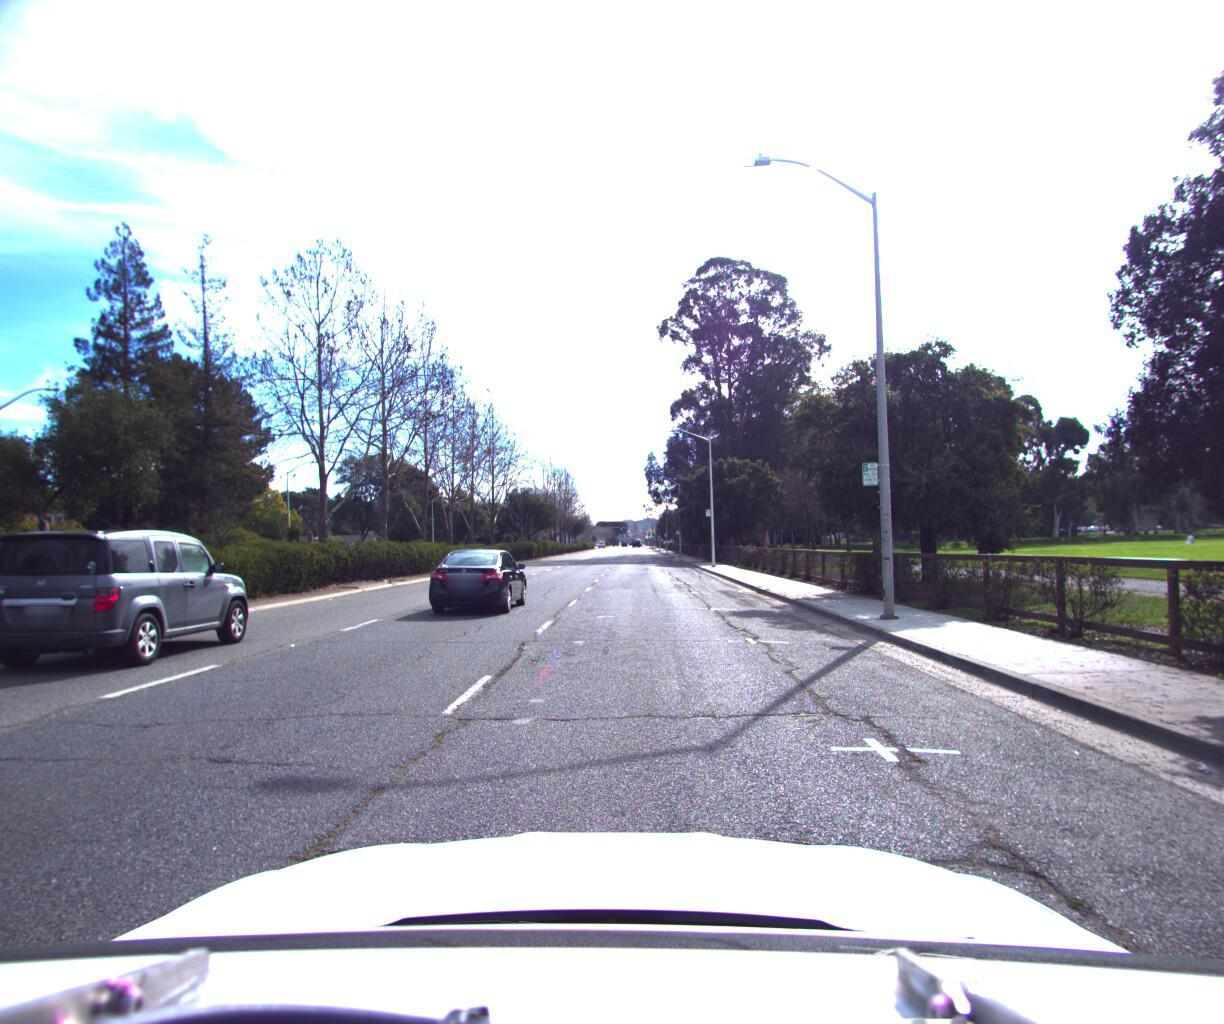car: (0, 526, 261, 673), (421, 540, 530, 615)
